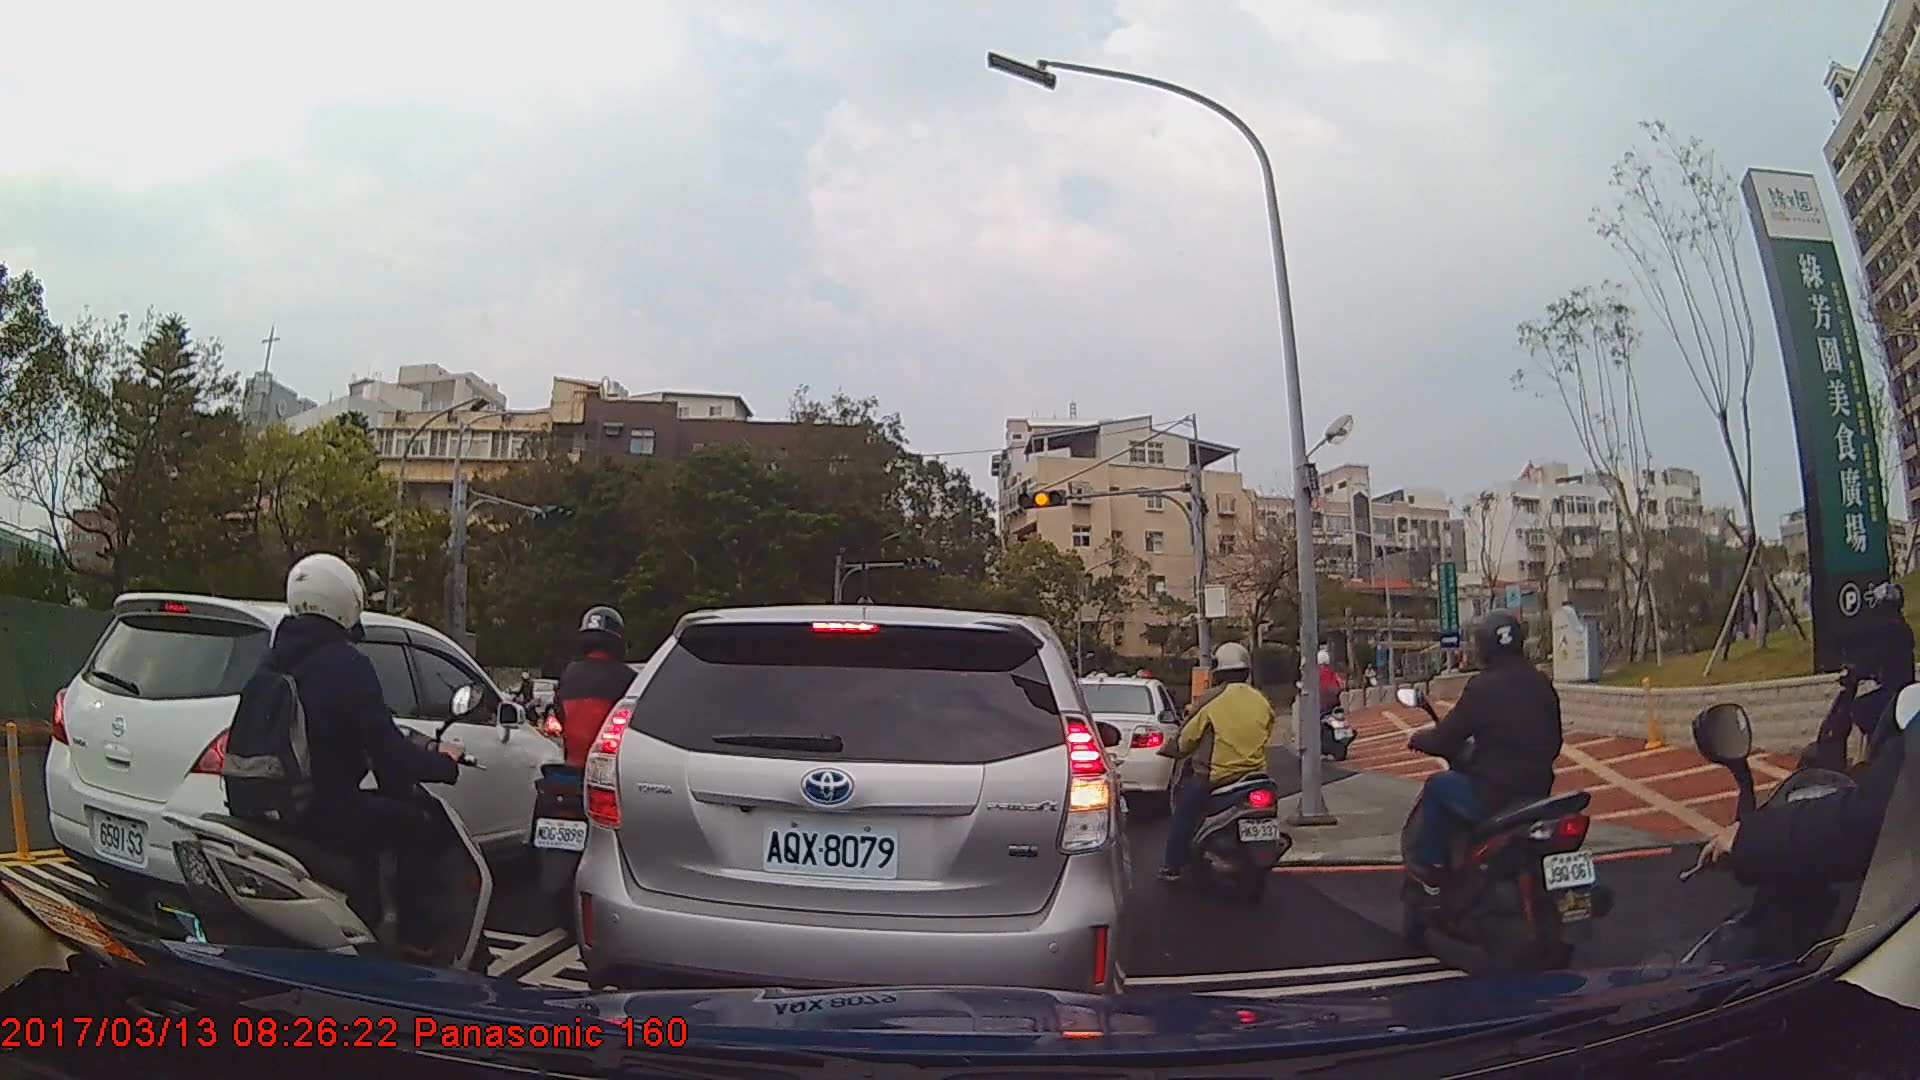pedestrian: (1739, 565, 1781, 642), (1732, 579, 1767, 644)
rider: (170, 549, 496, 1017), (1389, 606, 1609, 976), (529, 606, 670, 926), (1160, 639, 1290, 896), (1787, 575, 1917, 804), (1290, 645, 1359, 761)
vehicle: (569, 603, 1132, 1032), (41, 591, 573, 927), (1066, 673, 1190, 810)
